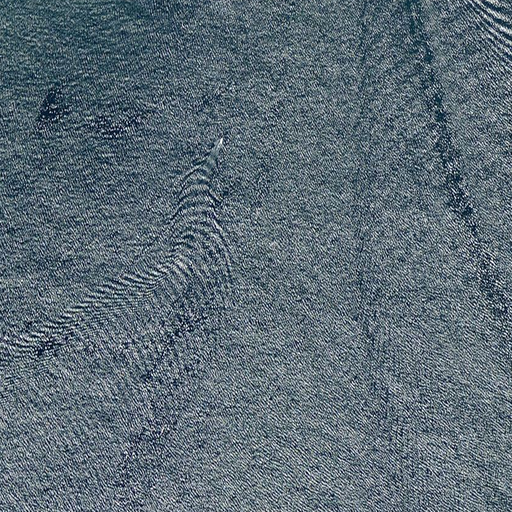ship: (213, 137, 226, 152)
